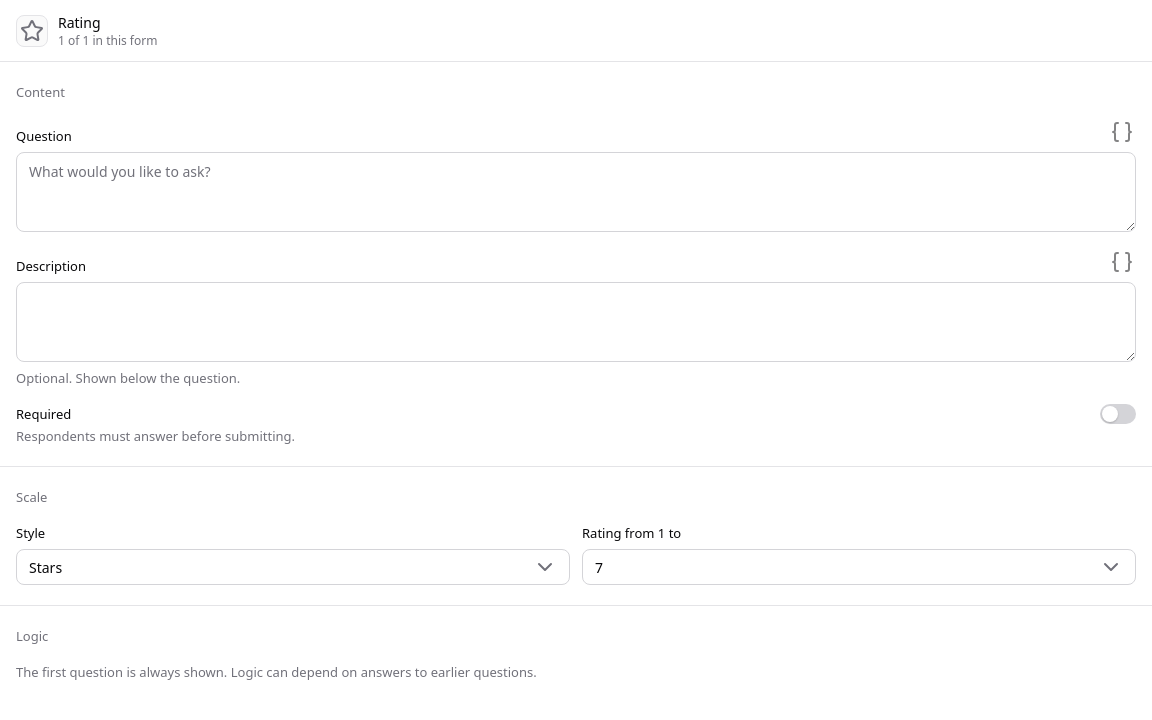
it: settings for newer question types › offers faces only on 3- and 5-point scales
What coordinates should you click on to do the following:
click the dropdown named "Style"
I would click on:
 (46, 567)
Its box is [16, 549, 570, 585].
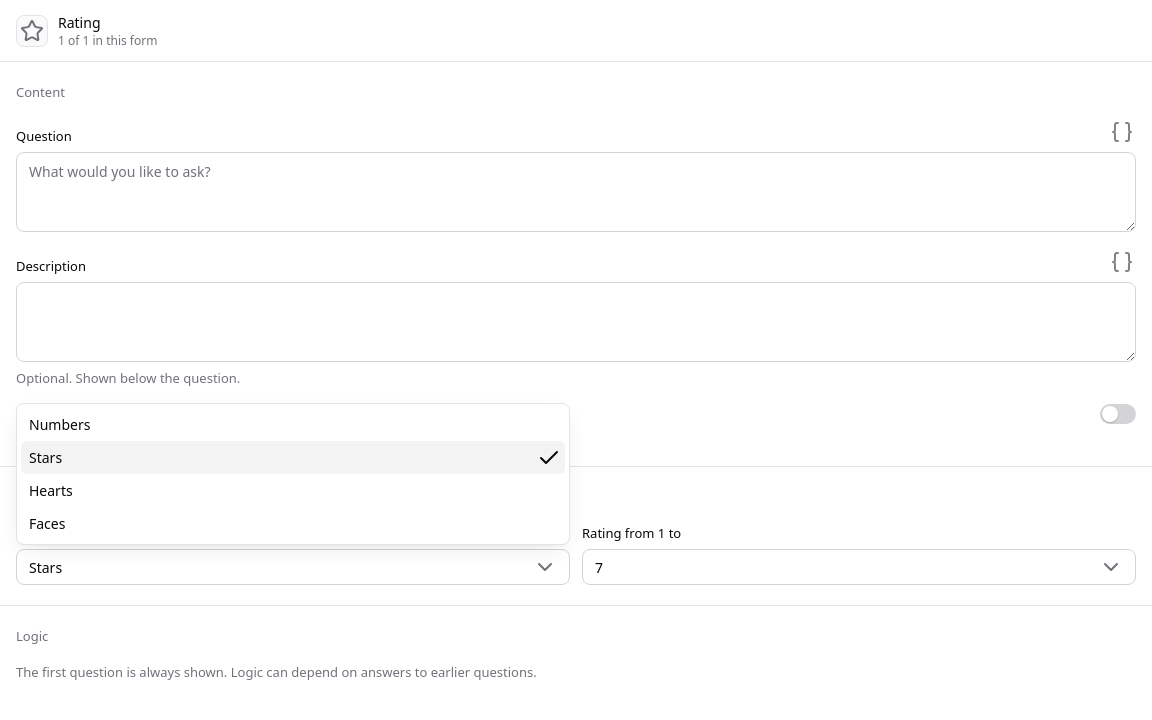
What coordinates should you click on to do the following:
click the option "Faces"
I would click on:
 (47, 524)
Its box is [29, 514, 66, 533].
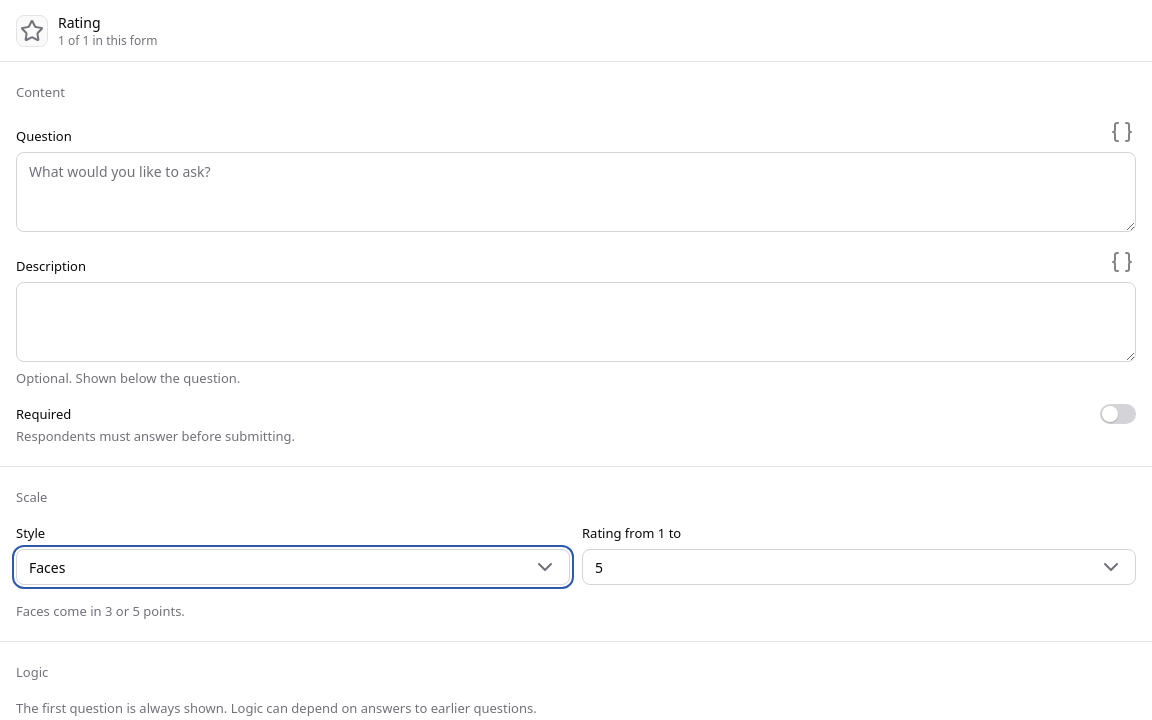
What coordinates should you click on to do the following:
click the dropdown named "Rating from 1 to"
I would click on:
 (599, 567)
Its box is [582, 549, 1136, 585].
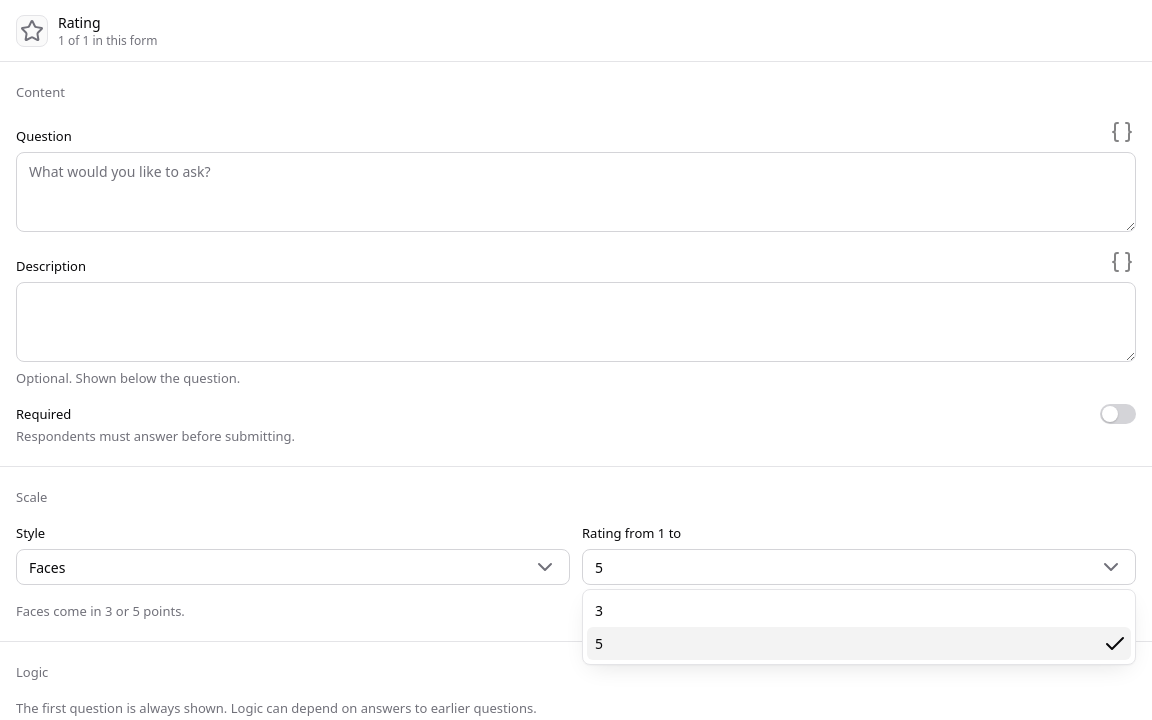
Now the options read "3", "5", in this order, box [595, 601, 603, 620]; [587, 627, 1131, 660]
